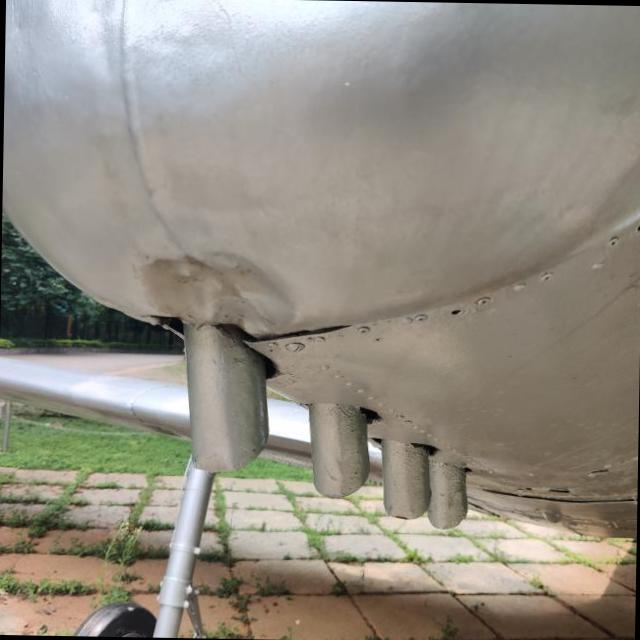Dent: (120, 250, 322, 335)
